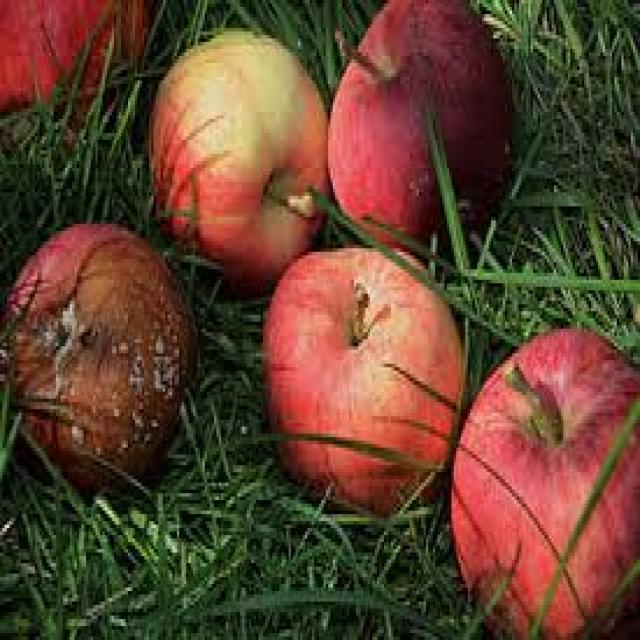organic waste: (449, 322, 638, 636), (260, 238, 466, 518), (2, 217, 193, 500), (144, 24, 326, 294), (323, 0, 512, 259), (0, 0, 142, 119)
